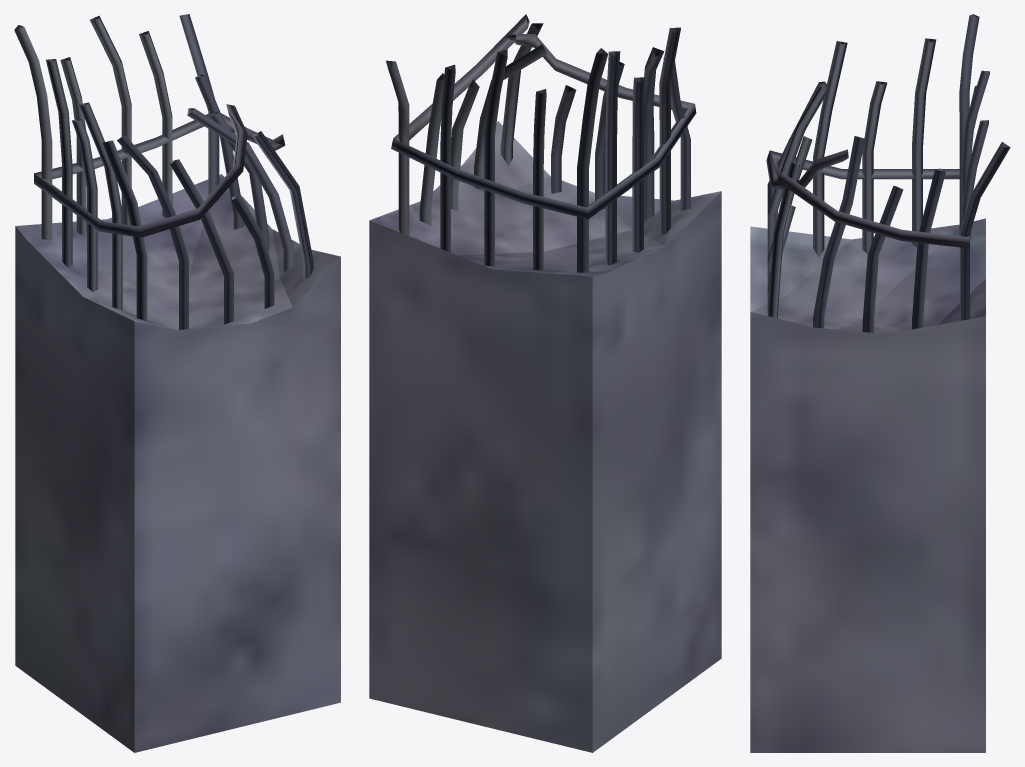
The model's file is broken-pillar-stump.gltf.
3 views of the same model, side by side, from view 1: azimuth 30°, elevation 25°; view 2: azimuth 150°, elevation 25°; view 3: azimuth 270°, elevation 25° (orthographic). The views are drawn at different scales.
Visible parts, largest first — view 1: broken_concrete_pillar_002.003; view 2: broken_concrete_pillar_002.003; view 3: broken_concrete_pillar_002.003.
Boxes of the visible parts, x1,y1,x2,y2 form: broken_concrete_pillar_002.003: (14, 14, 340, 752); broken_concrete_pillar_002.003: (369, 14, 721, 752); broken_concrete_pillar_002.003: (750, 14, 1010, 752).
Size of the model in its own units: 0.2814 by 0.81 by 0.2995.
Materials: 1 (1 with a texture image).
